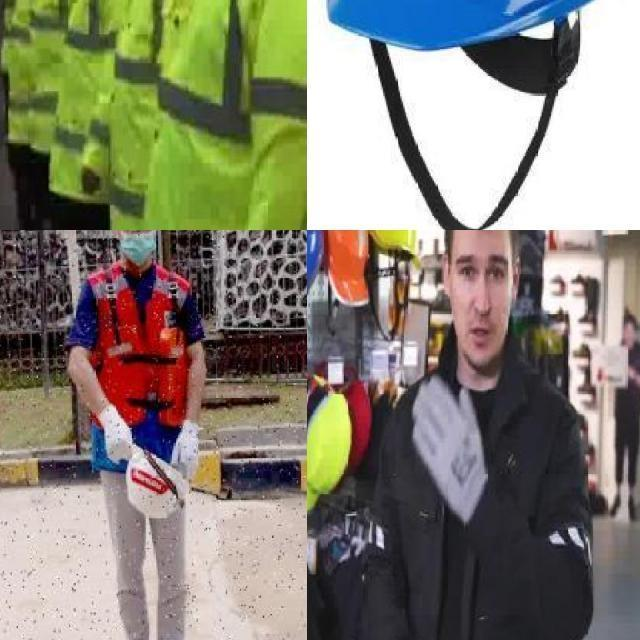apron: (406, 373, 488, 527), (98, 404, 135, 466), (168, 418, 200, 481)
